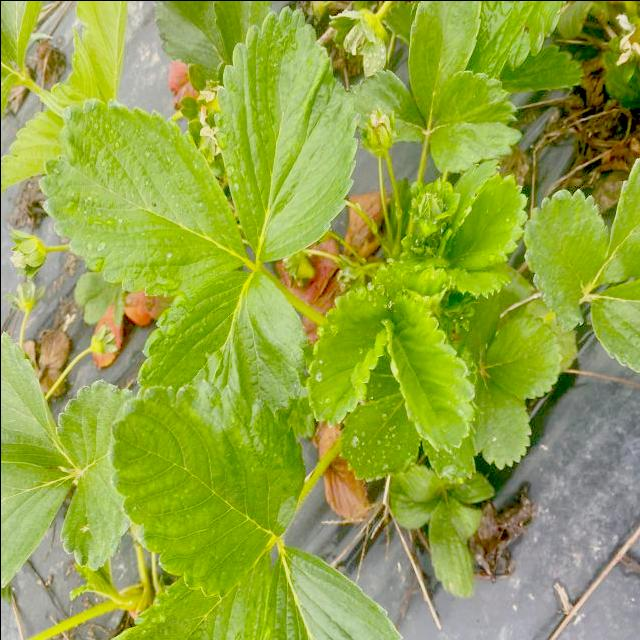flower: (36, 5, 352, 382), (88, 378, 408, 630), (294, 173, 544, 468)
